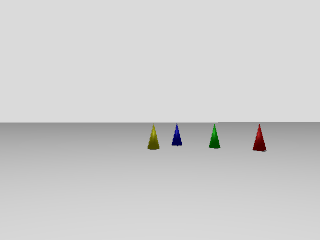blue: (170, 122, 182, 145)
green: (208, 123, 220, 149)
red: (252, 123, 267, 152)
yellow: (147, 123, 160, 152)
